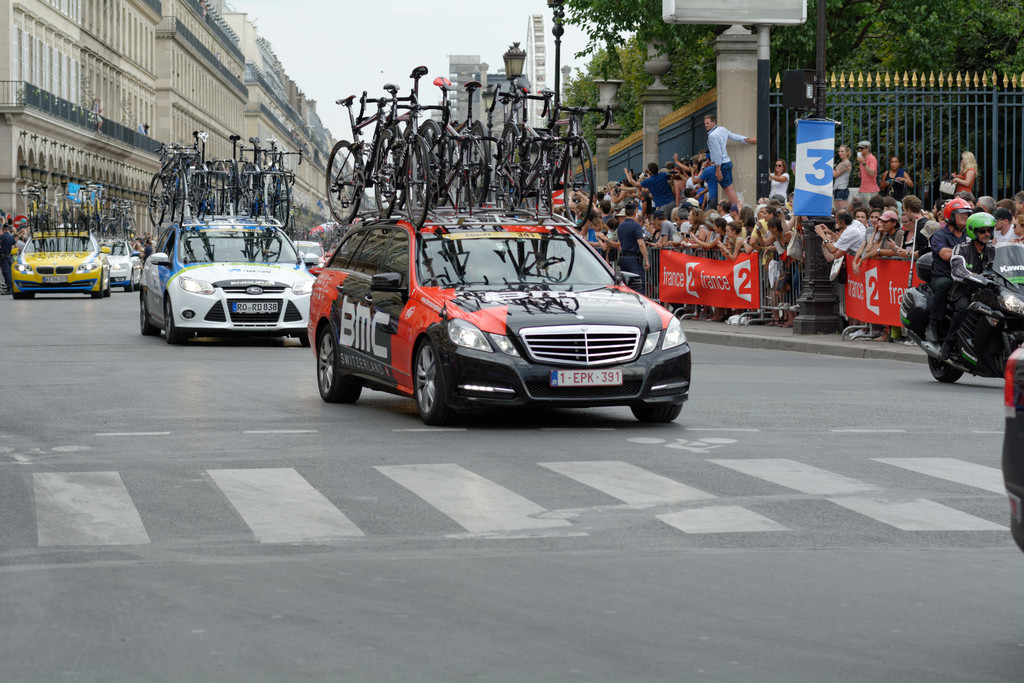Car: (301, 198, 698, 427), (138, 208, 326, 341), (10, 222, 112, 306), (102, 230, 140, 287)
